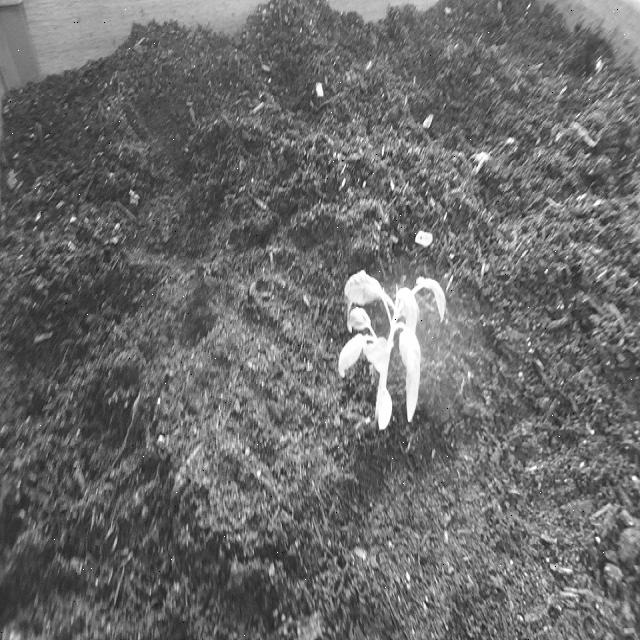Healthy: (336, 267, 449, 443)
